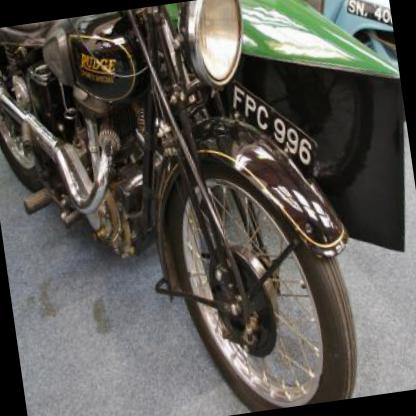motorcycle: (0, 0, 415, 415), (265, 0, 395, 61)
